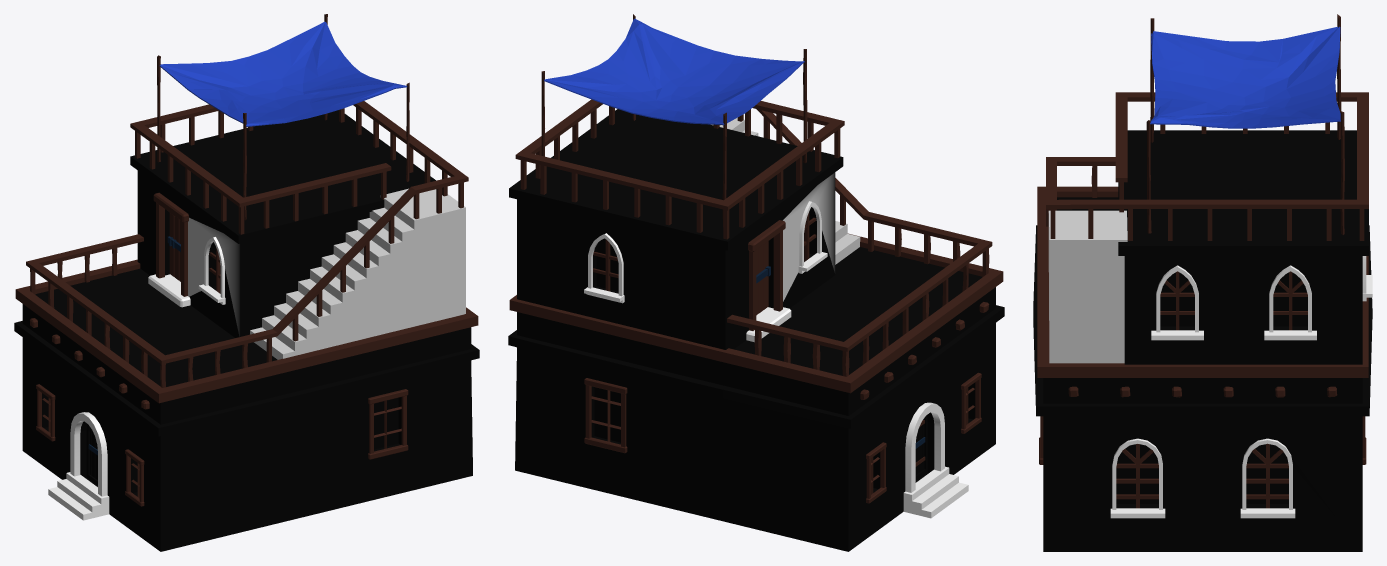
File: civilian_house_32_c.FBX
3 renders of one model, left to right at view 1: azimuth 30°, elevation 25°; view 2: azimuth 150°, elevation 25°; view 3: azimuth 270°, elevation 25°, orthographic. The views are drawn at different scales.
Visible parts, largest first — view 1: civilian_house_32_c; view 2: civilian_house_32_c; view 3: civilian_house_32_c.
Boxes of the visible parts, x1,y1,x2,y2 form: civilian_house_32_c: (14,14,479,551); civilian_house_32_c: (508,14,1004,551); civilian_house_32_c: (1033,14,1372,551).
Bounding box in the file's own units: 1157 × 1194 × 851.
